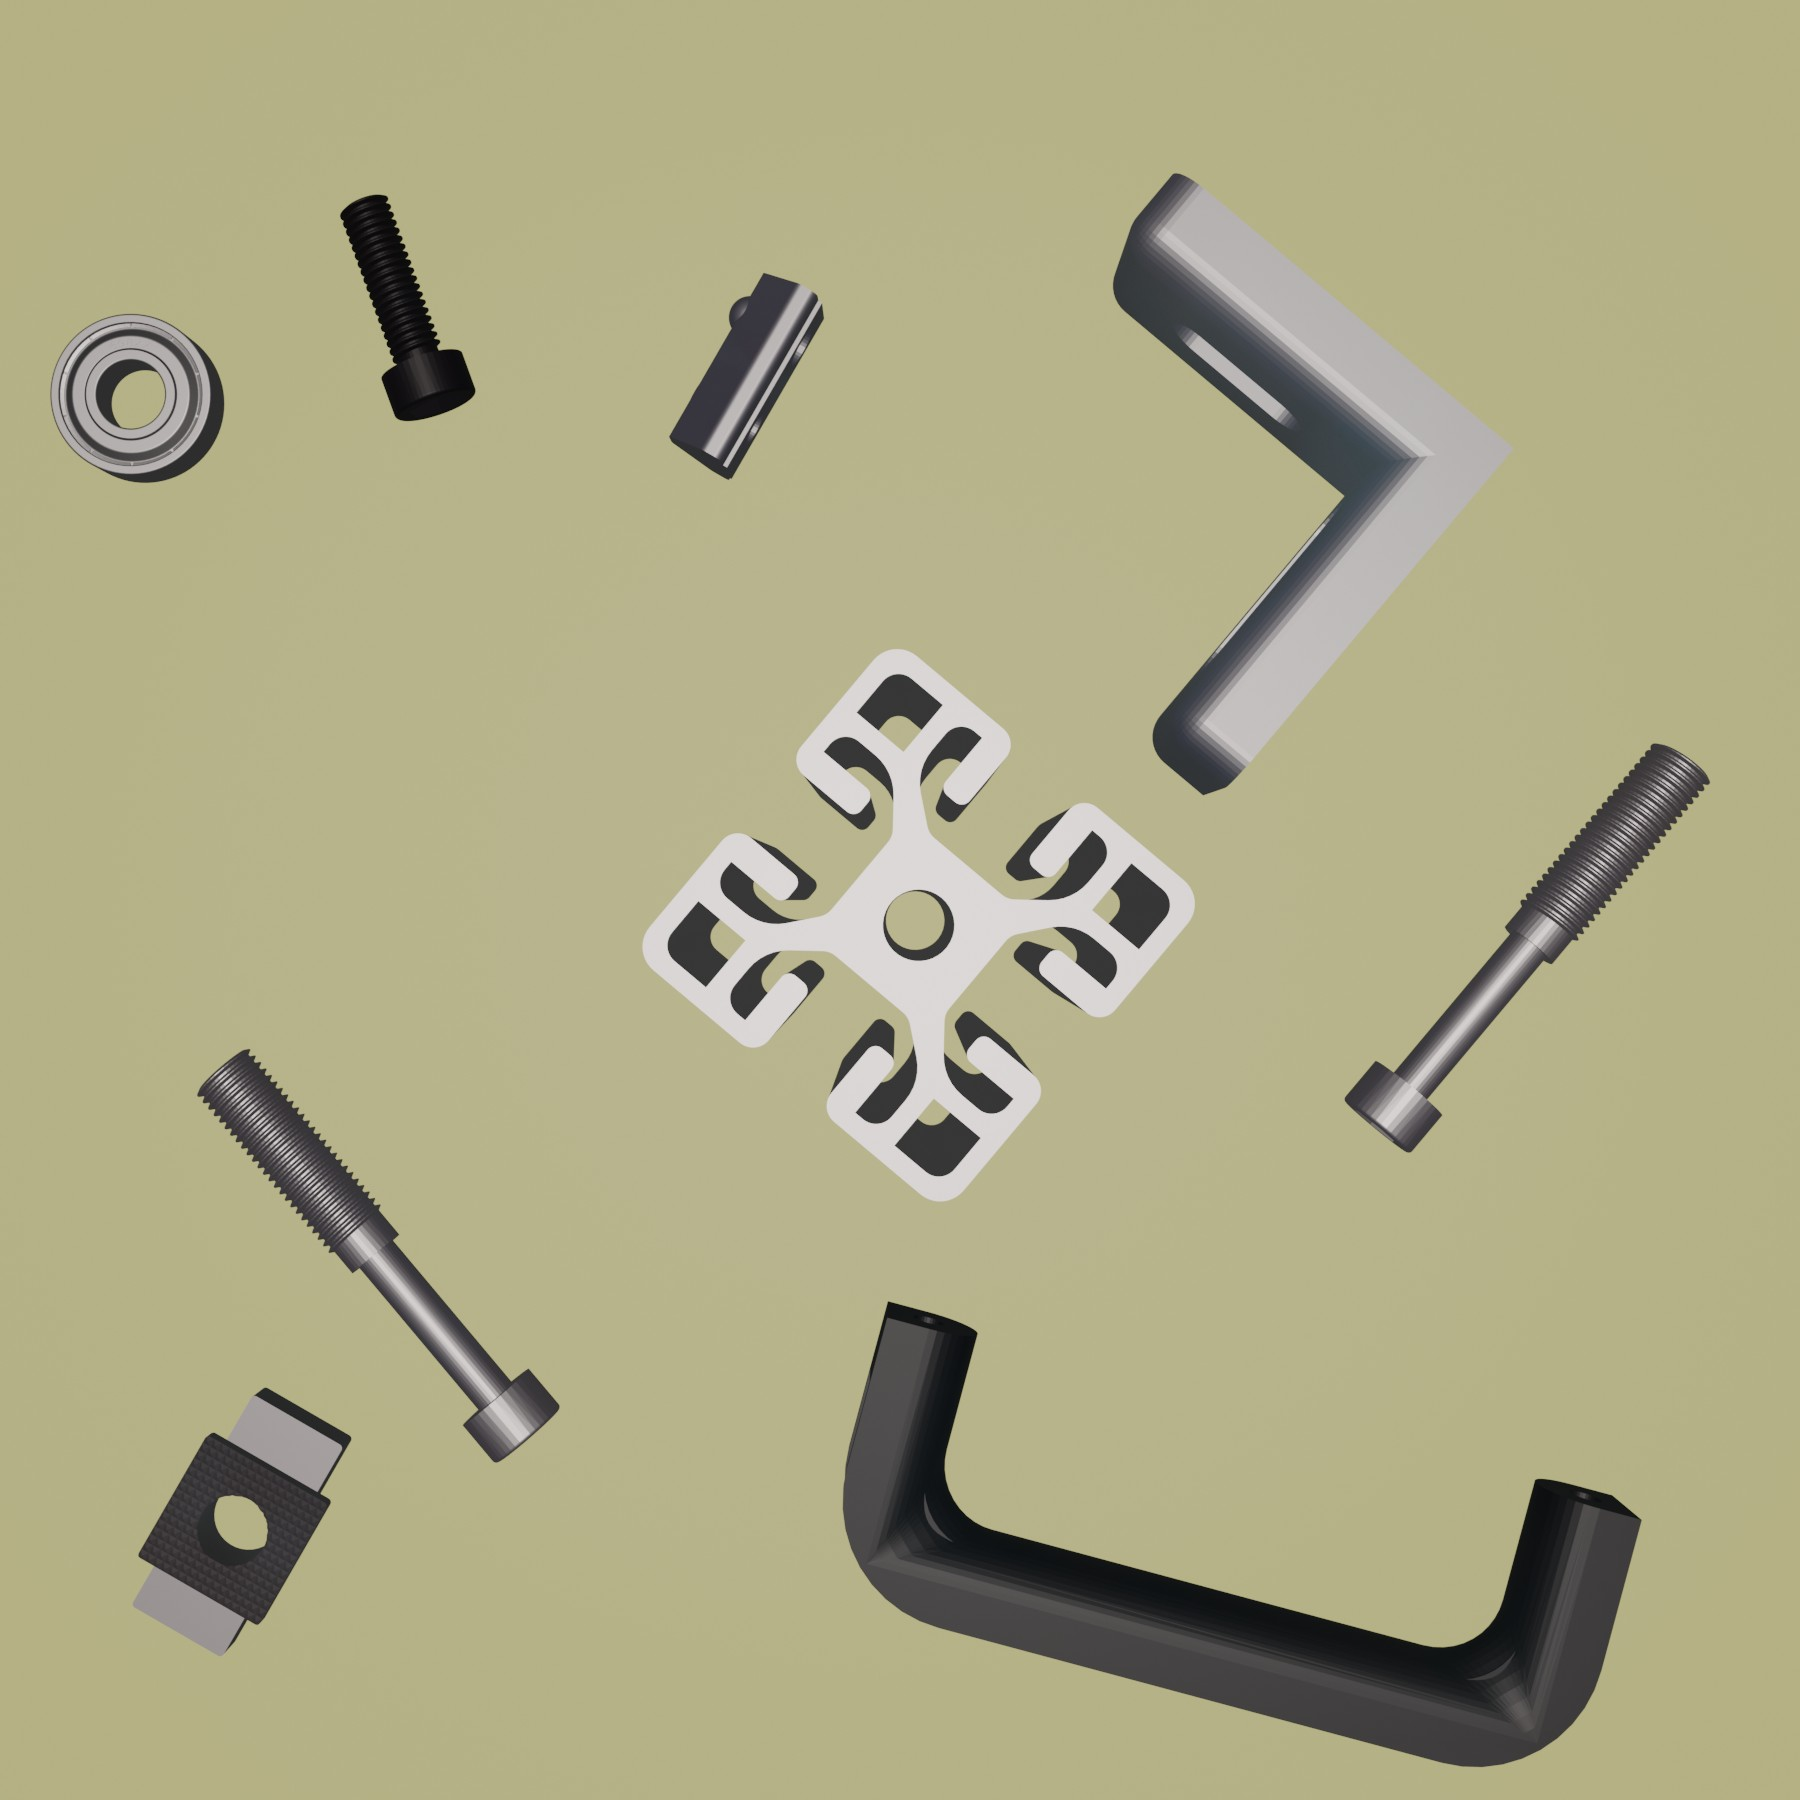Aluminium Extension: (638, 648, 1200, 1208)
Ball Bearing: (46, 312, 224, 486)
Multiwinkel: (1109, 170, 1516, 799)
Pull Handle: (842, 1297, 1643, 1770)
Shoulder Socket Head Cap Screw: (1340, 738, 1713, 1157), (195, 1047, 562, 1469)
Socket Head Cap Screw: (335, 191, 478, 424)
T Nut Square: (129, 1381, 354, 1658)
T Spring Nut: (666, 269, 831, 481)
